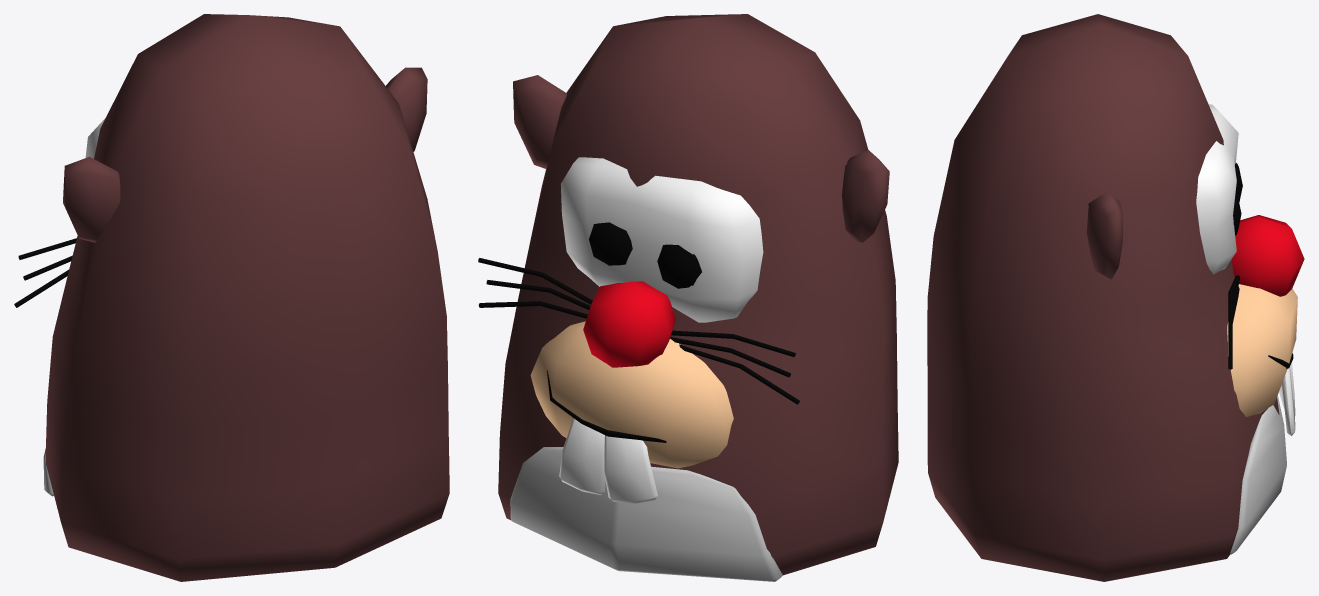
The model's file is mole_2.fbx.
The picture shows the model from 3 angles, left to right: view 1: azimuth 30°, elevation 25°; view 2: azimuth 150°, elevation 25°; view 3: azimuth 270°, elevation 25°; orthographic projection. The views are drawn at different scales.
Visible parts, largest first — view 1: Cube, Cube.002, Cube.003, Plane.001; view 2: Cube, Cube.008, Cube.001, Cube.004, Cube.005, Cube.007, Plane.001, Cube.002, Cube.003, Cube.006, Plane; view 3: Cube, Cube.004, Cube.001, Cube.005, Cube.008, Cube.003, Cube.007, Plane.001.
Part boxes in pixels (left/top/right/bottom): Cube: left=45, top=14, right=449, bottom=581; Cube.002: left=63, top=156, right=120, bottom=242; Cube.003: left=386, top=67, right=427, bottom=151; Plane.001: left=14, top=238, right=76, bottom=307; Cube: left=498, top=14, right=898, bottom=575; Cube.008: left=510, top=447, right=782, bottom=581; Cube.001: left=560, top=157, right=763, bottom=322; Cube.004: left=530, top=321, right=733, bottom=468; Cube.005: left=583, top=281, right=675, bottom=367; Cube.007: left=559, top=418, right=657, bottom=503; Plane.001: left=478, top=258, right=799, bottom=404; Cube.002: left=842, top=150, right=889, bottom=242; Cube.003: left=513, top=75, right=566, bottom=168; Cube.006: left=589, top=222, right=701, bottom=288; Plane: left=547, top=370, right=666, bottom=442; Cube: left=927, top=14, right=1279, bottom=581; Cube.004: left=1227, top=284, right=1297, bottom=416; Cube.001: left=1196, top=104, right=1238, bottom=274; Cube.005: left=1231, top=215, right=1304, bottom=296; Cube.008: left=1230, top=395, right=1286, bottom=554; Cube.003: left=1086, top=191, right=1122, bottom=279; Cube.007: left=1279, top=362, right=1295, bottom=436; Plane.001: left=1228, top=275, right=1239, bottom=369.
Size of the model in its own units: 325 by 410 by 294.
